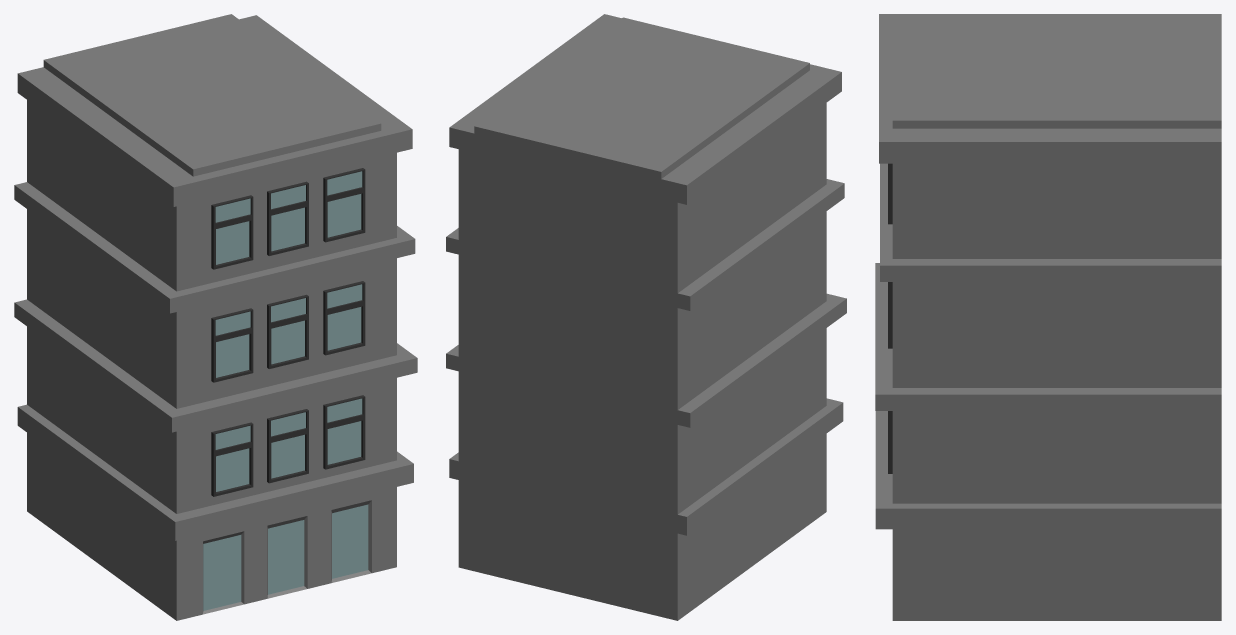
The model's file is edificio bueno2.fbx.
3 views of the same model, side by side, from view 1: azimuth 30°, elevation 25°; view 2: azimuth 150°, elevation 25°; view 3: azimuth 270°, elevation 25° (orthographic). The views are drawn at different scales.
Parts seen in each view (by area): view 1: polySurface16; view 2: polySurface16; view 3: polySurface16.
Boxes of the visible parts, <box> form: polySurface16: <box>14,14,417,620</box>; polySurface16: <box>446,14,846,620</box>; polySurface16: <box>875,14,1221,620</box>.
Size of the model in its own units: 1638 by 2854 by 1822.
